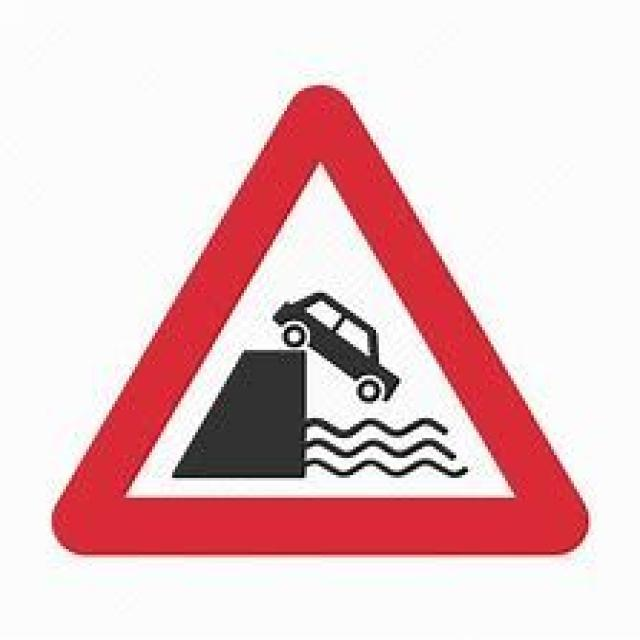quay side or river bank: (50, 79, 590, 564)
